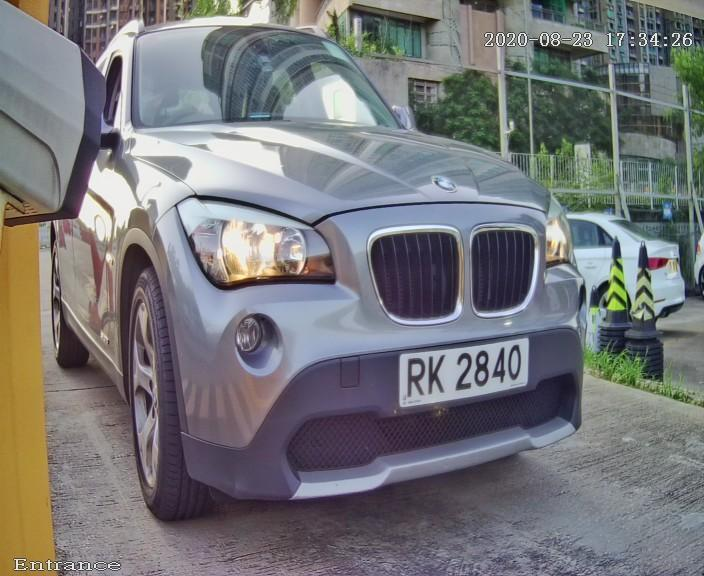Car: (23, 8, 635, 535)
License Plate: (364, 314, 567, 438)
